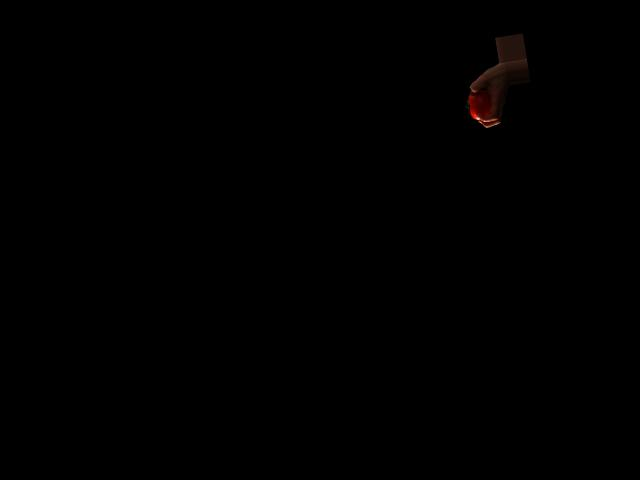tomato: (463, 88, 492, 121)
